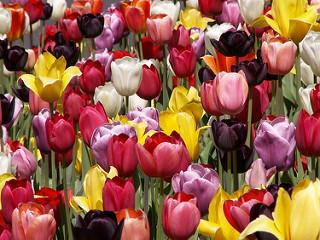tulip: (18, 51, 82, 103), (276, 178, 320, 238), (136, 130, 186, 181), (256, 117, 299, 172), (163, 193, 202, 240), (11, 200, 56, 240), (259, 37, 298, 82), (215, 70, 251, 110), (76, 103, 110, 145), (103, 172, 136, 213), (108, 134, 139, 175), (112, 56, 143, 95), (212, 116, 249, 148), (45, 116, 76, 152), (119, 0, 149, 37), (10, 145, 40, 178), (167, 47, 198, 76), (81, 59, 105, 93), (147, 13, 174, 43), (77, 13, 105, 38)
